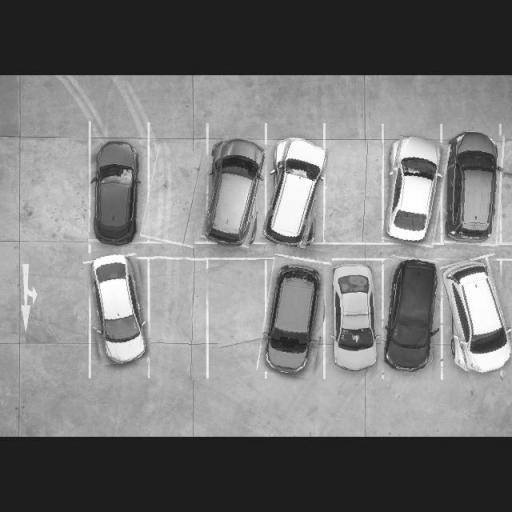busy: (261, 246, 328, 378), (445, 248, 512, 377), (381, 255, 443, 377), (86, 247, 150, 364), (446, 132, 504, 250), (385, 138, 447, 248), (206, 138, 266, 248), (266, 140, 324, 252), (90, 142, 142, 247), (334, 264, 382, 373)
free: (207, 261, 267, 379), (151, 254, 204, 380), (144, 147, 210, 248), (326, 142, 382, 242)
